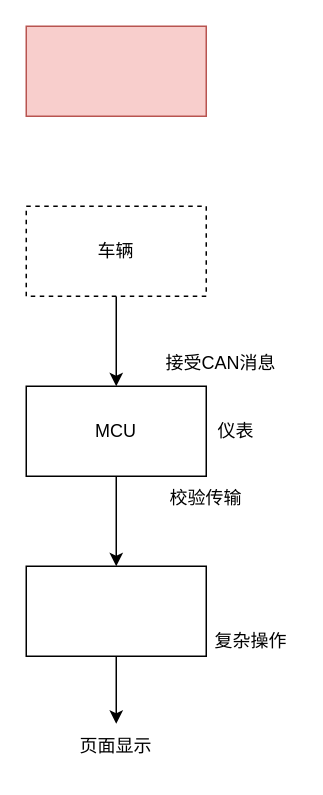
The diagram is 323 pixels wide and 795 high, and some of its shapes have lost their labels. The shapes that lost their labels are listed below. From the top down, each one's centre as x and y in pixels, then its label:
At (x=115, y=70): "弗浪".
At (x=115, y=610): "SoC Linux".
